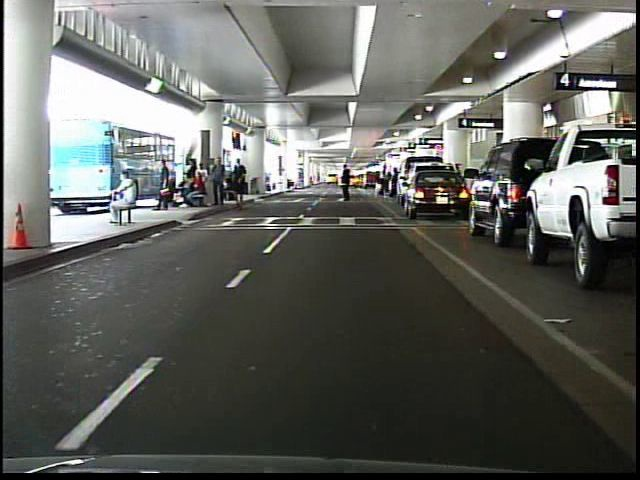person: (96, 166, 141, 228), (150, 155, 174, 213), (339, 162, 359, 206), (375, 160, 391, 197)
